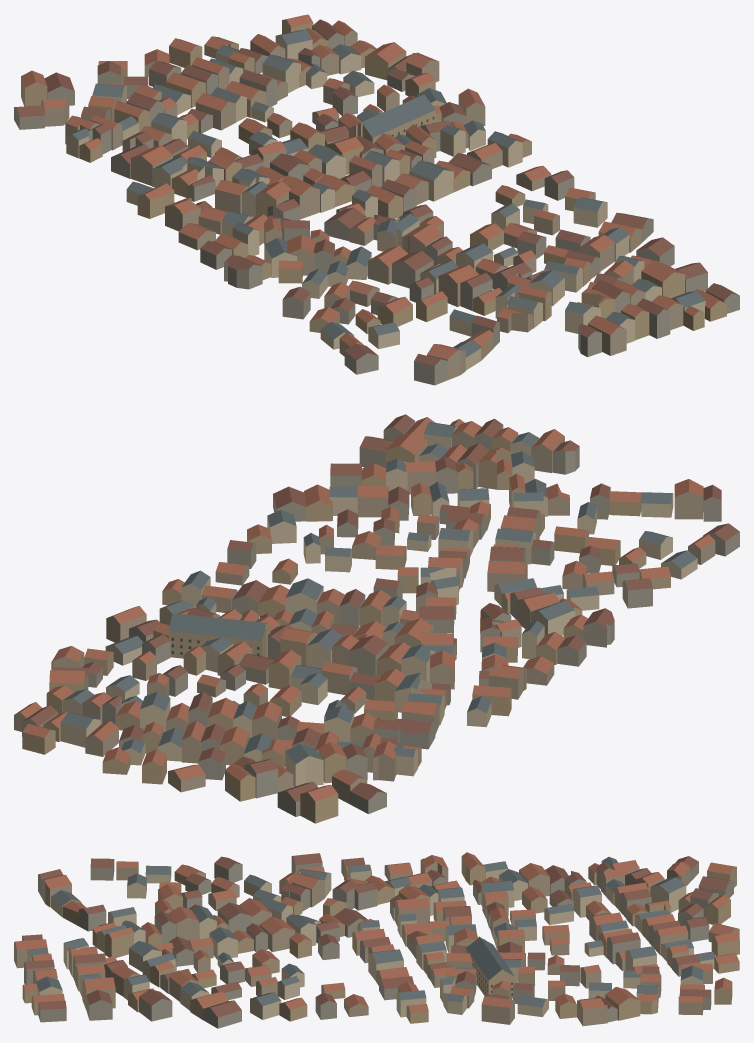
3 renders of one model, top to bottom at view 1: azimuth 30°, elevation 25°; view 2: azimuth 150°, elevation 25°; view 3: azimuth 270°, elevation 25°, orthographic. The views are drawn at different scales.
Visible parts, largest first — view 1: C_3_2; view 2: C_3_2; view 3: C_3_2.
Part boxes in pixels (bbox=[...]): C_3_2: bbox=[14, 14, 739, 385]; C_3_2: bbox=[14, 414, 739, 823]; C_3_2: bbox=[14, 852, 739, 1028].
Size of the model in its own units: 193 by 17.34 by 371.
